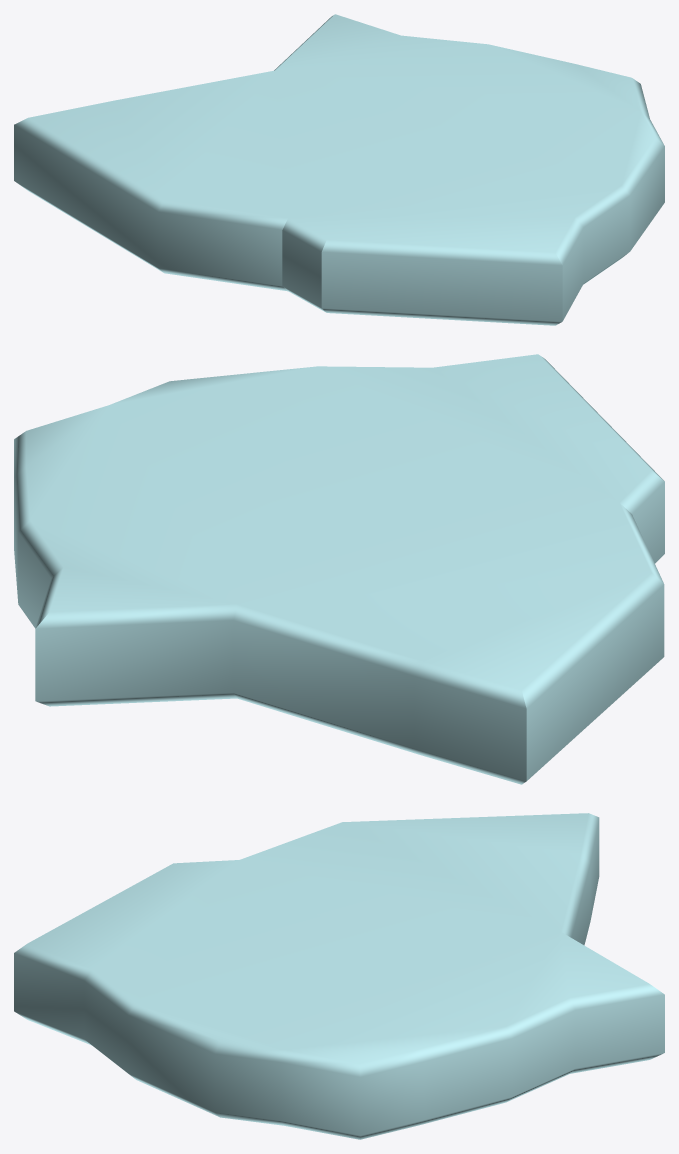
The model's file is ice_floe_medium_003.fbx.
3 views of the same model, one above another, from view 1: azimuth 30°, elevation 25°; view 2: azimuth 150°, elevation 25°; view 3: azimuth 270°, elevation 25° (orthographic). The views are drawn at different scales.
Visible parts, largest first — view 1: ice_floe_medium_003; view 2: ice_floe_medium_003; view 3: ice_floe_medium_003.
Part boxes in pixels (bbox=[...]): ice_floe_medium_003: bbox=[14, 14, 664, 325]; ice_floe_medium_003: bbox=[14, 354, 664, 784]; ice_floe_medium_003: bbox=[14, 813, 664, 1139].
Size of the model in its own units: 655 by 693 by 89.44.
